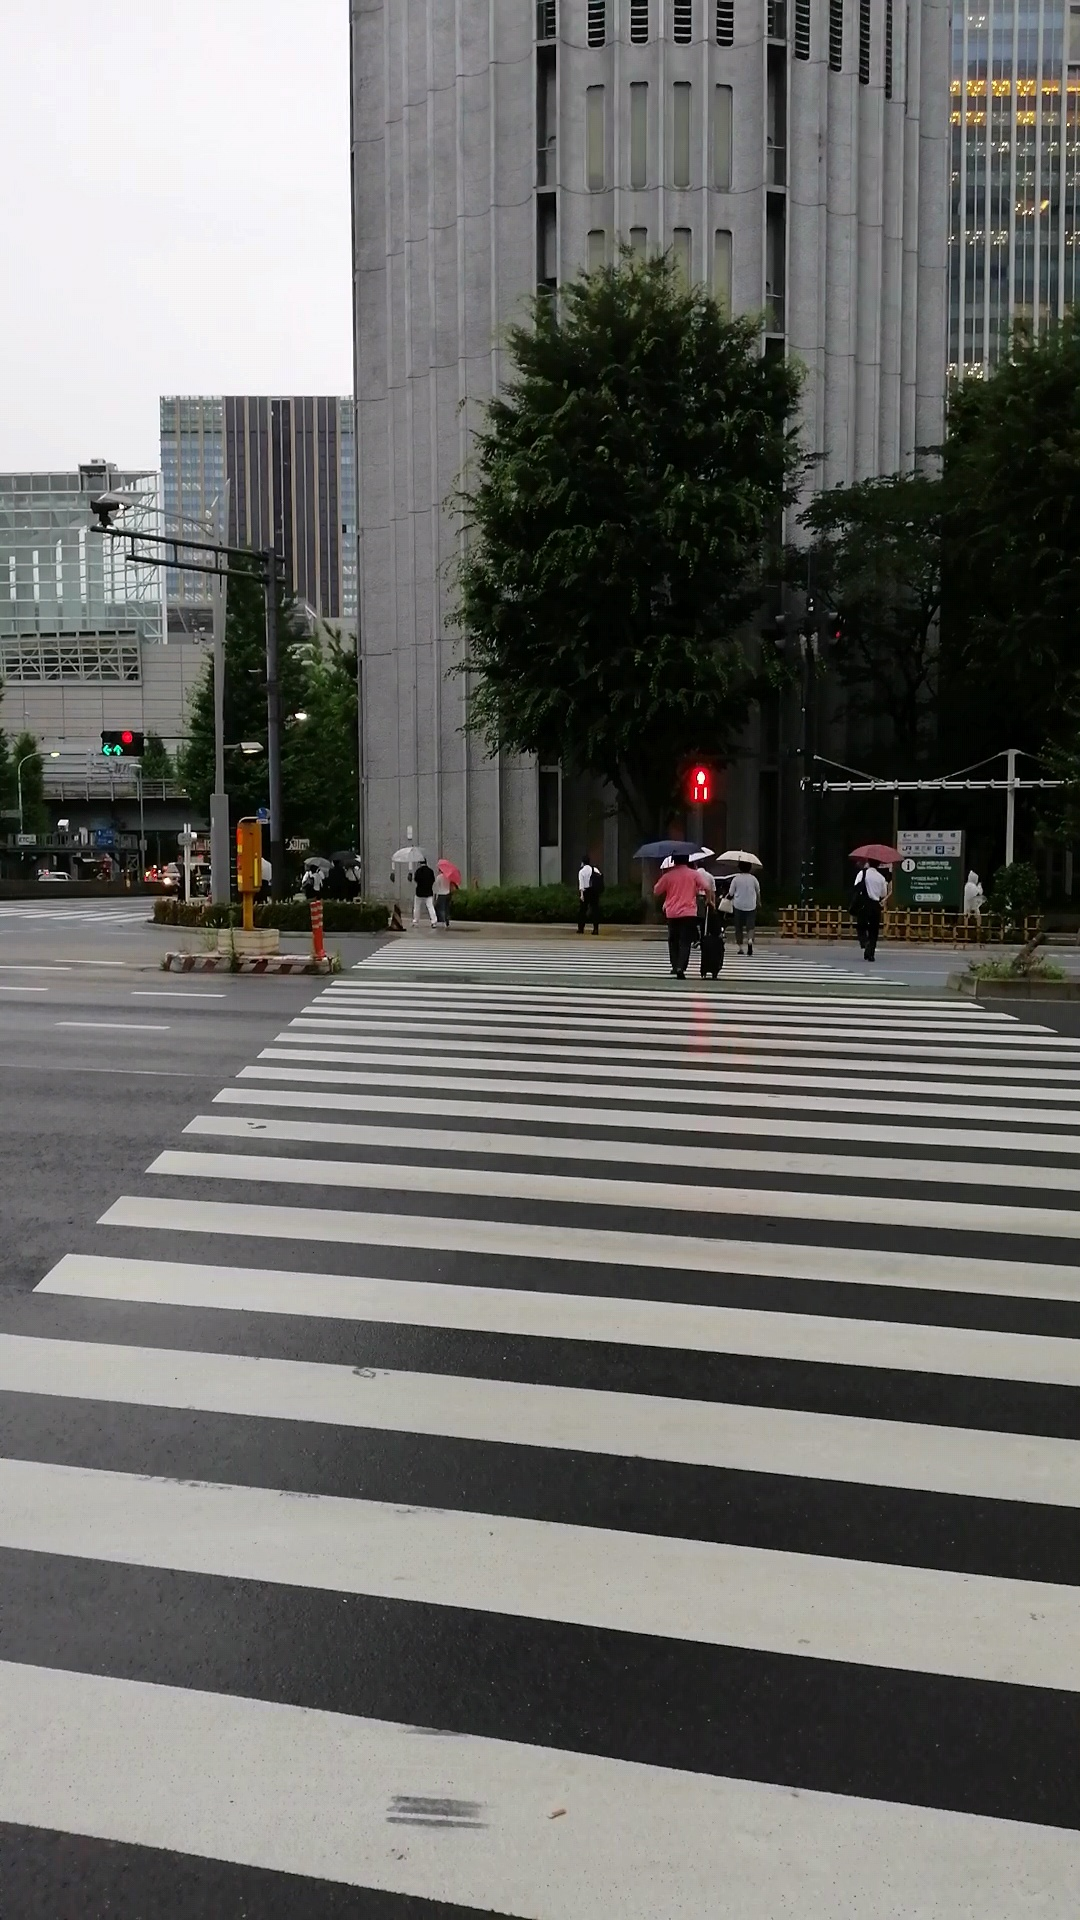red: (688, 764, 711, 807)
